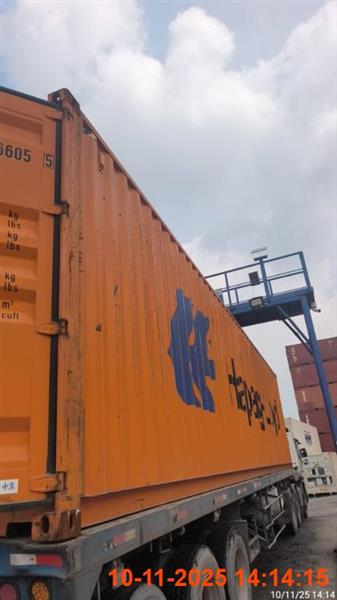bent: (0, 87, 309, 599), (1, 87, 309, 599)
